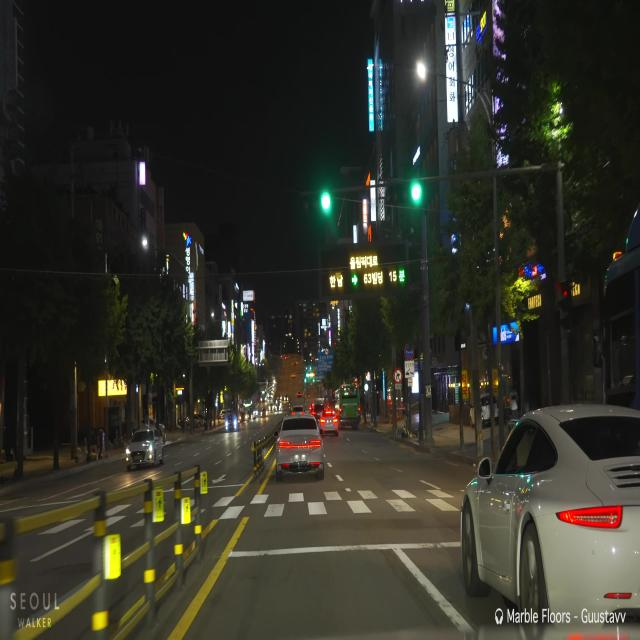Green Light: (320, 192, 331, 212), (411, 182, 422, 202)
